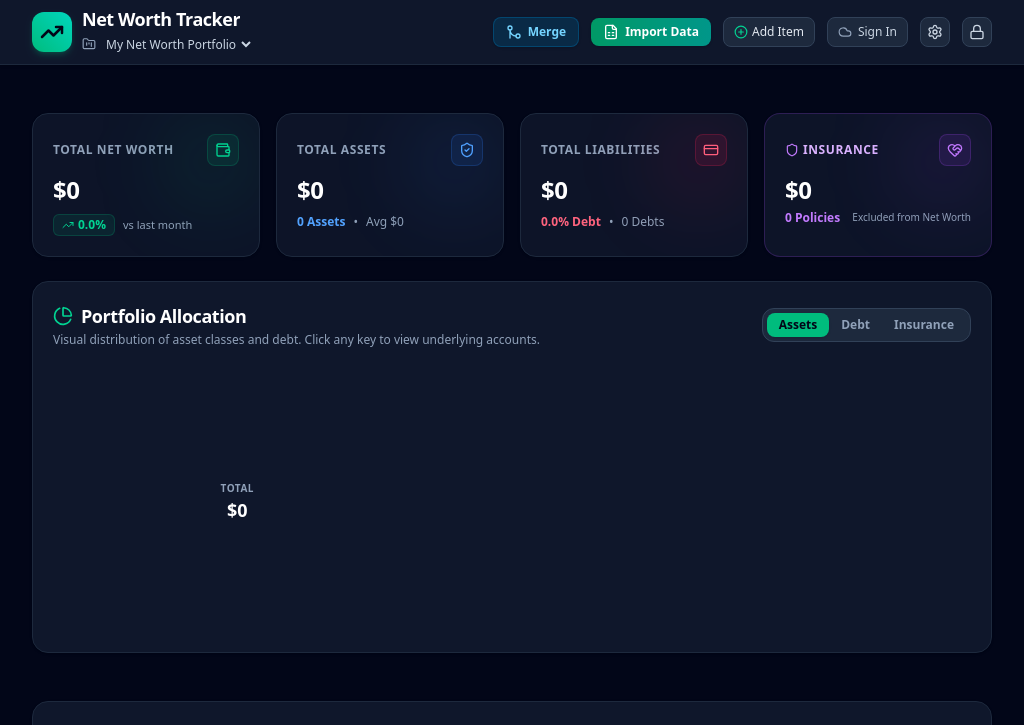
Test: App › can add a new item and update state
# Open Add Item Modal
Click the button "Add Item" at (769, 32), box [723,17,815,47]
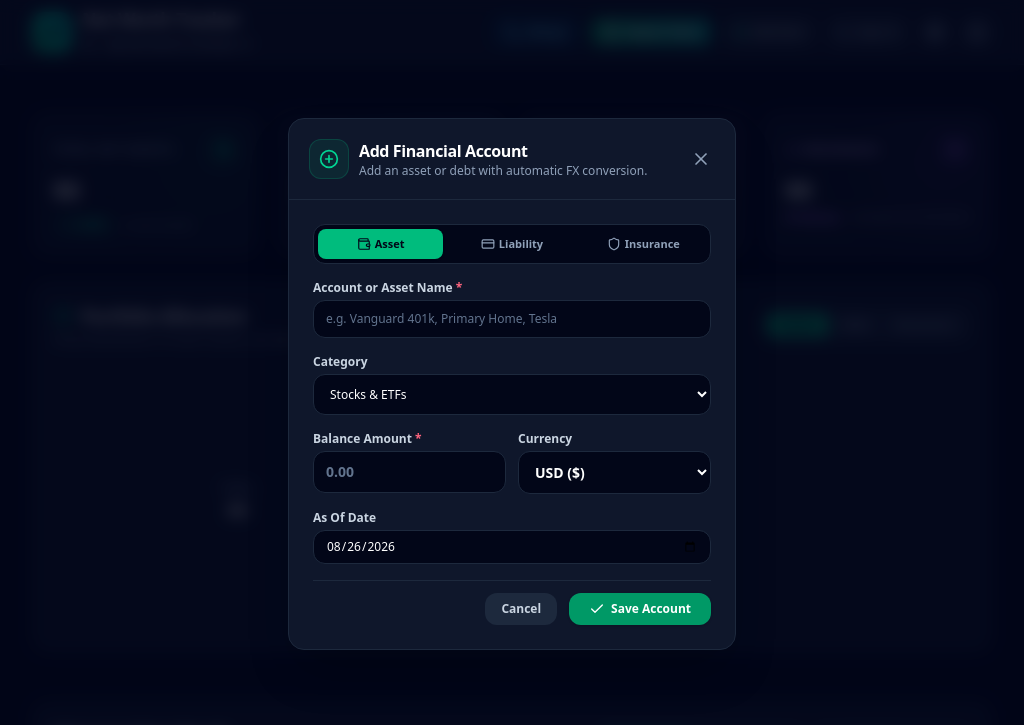
# Fill out form
Type "Test Bank Account" into the field with placeholder "e.g. Vanguard 401k, Primary Home, Tesla" at (512, 319), box [313,300,711,338]
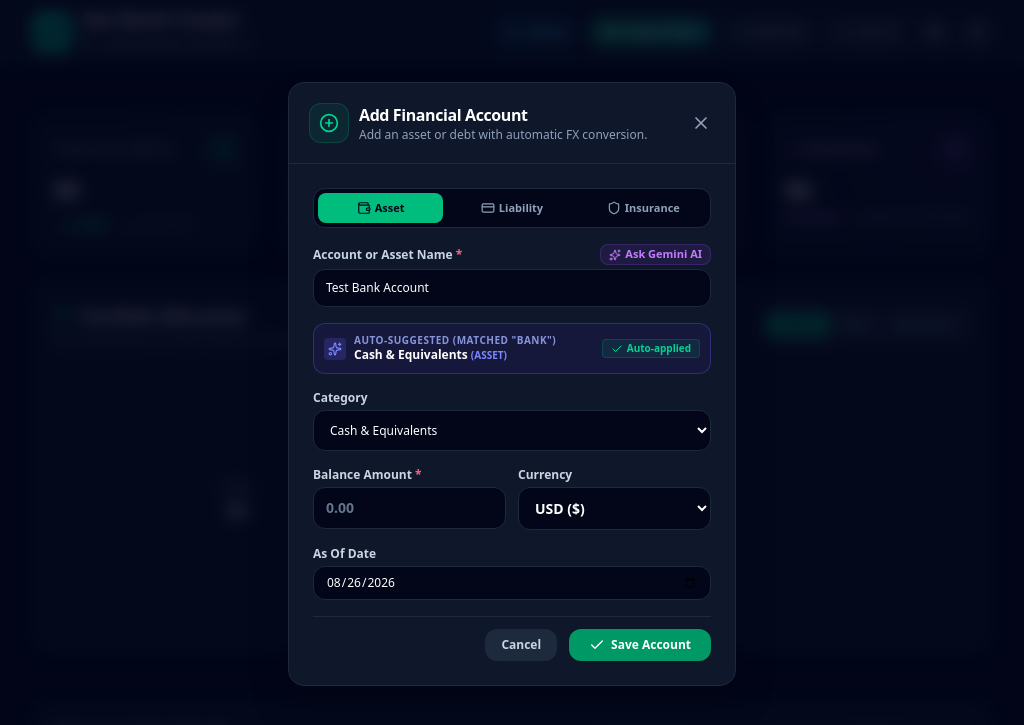
Type "12345" into the number field with placeholder "0.00" at (410, 508), box [313,487,506,529]
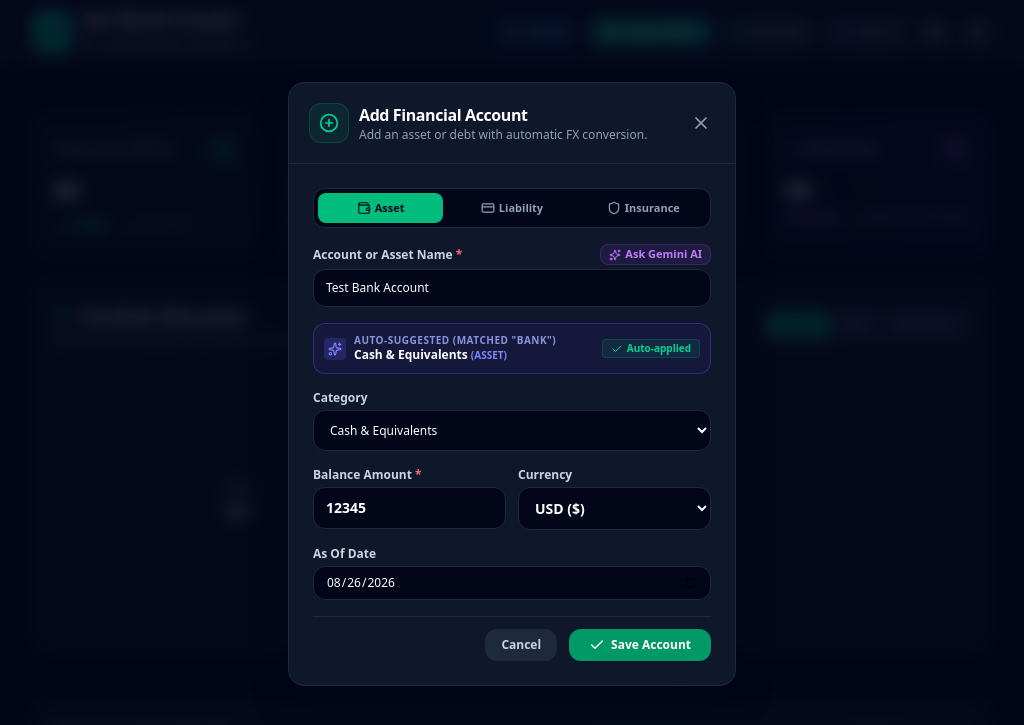
Click the button "Save Account" at (640, 645), box [569,629,711,661]
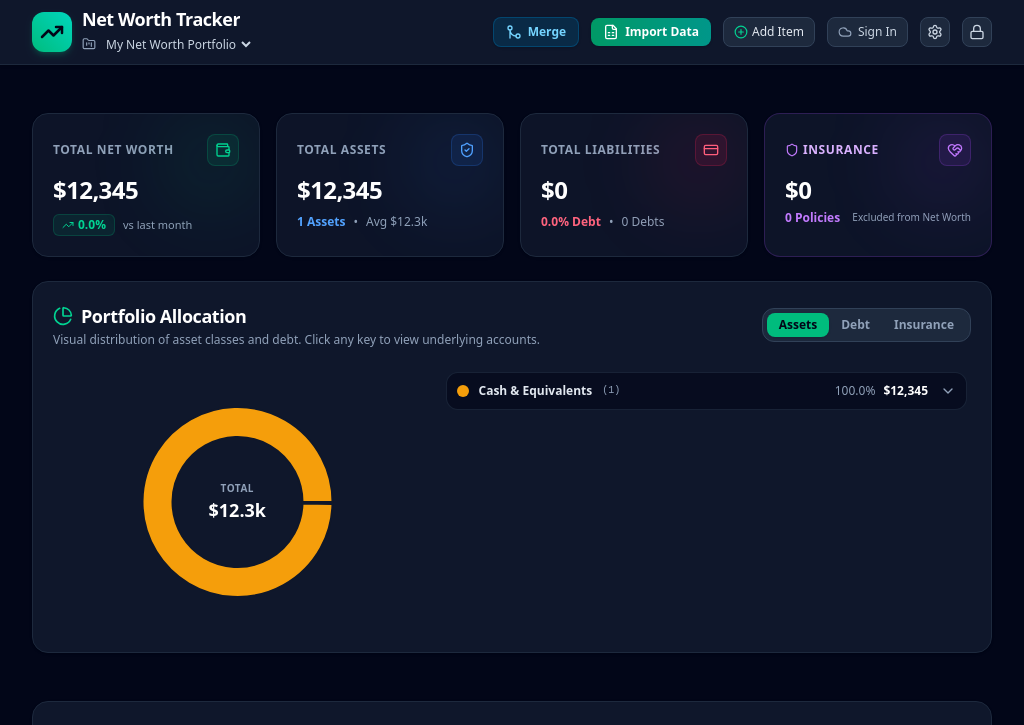
Now the text "$12,345" below "Total Net Worth" is shown, box [53,173,138,206]
